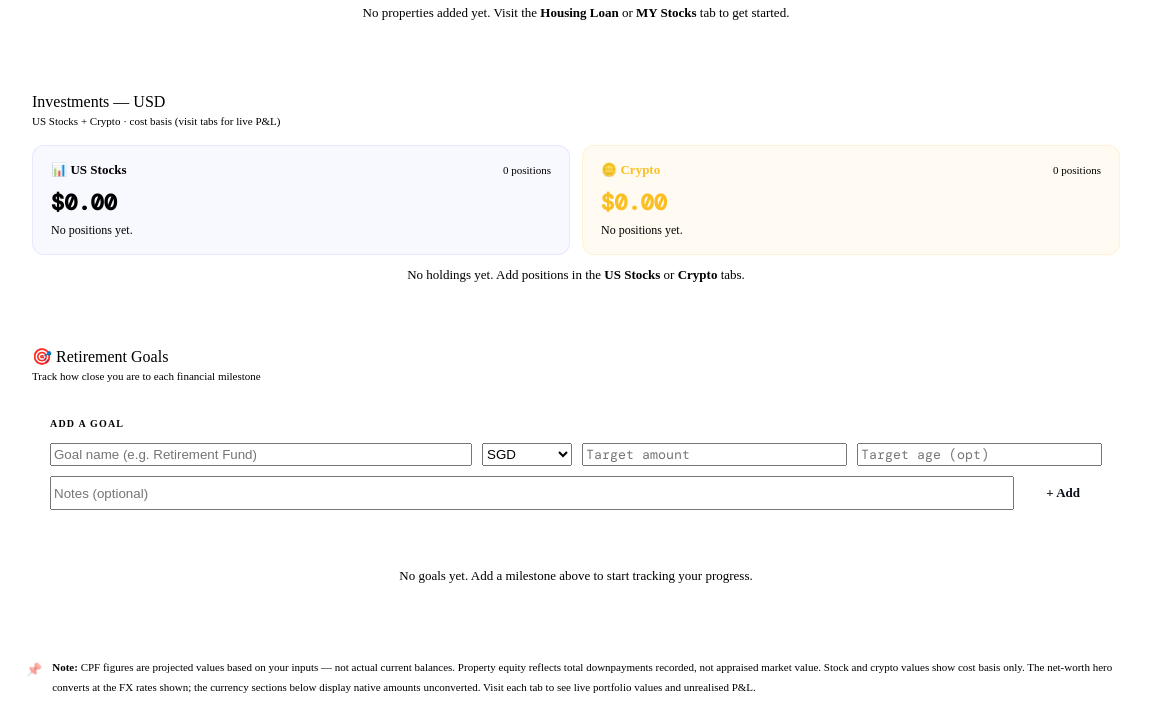
Test: SummaryTab › adds a goal and shows progress against the mapped currency
(page scrolled)
In the field with placeholder "Goal name (e.g. Retirement Fund)": (261,455) 50,443 -> 472,466, type "Retirement Fund"
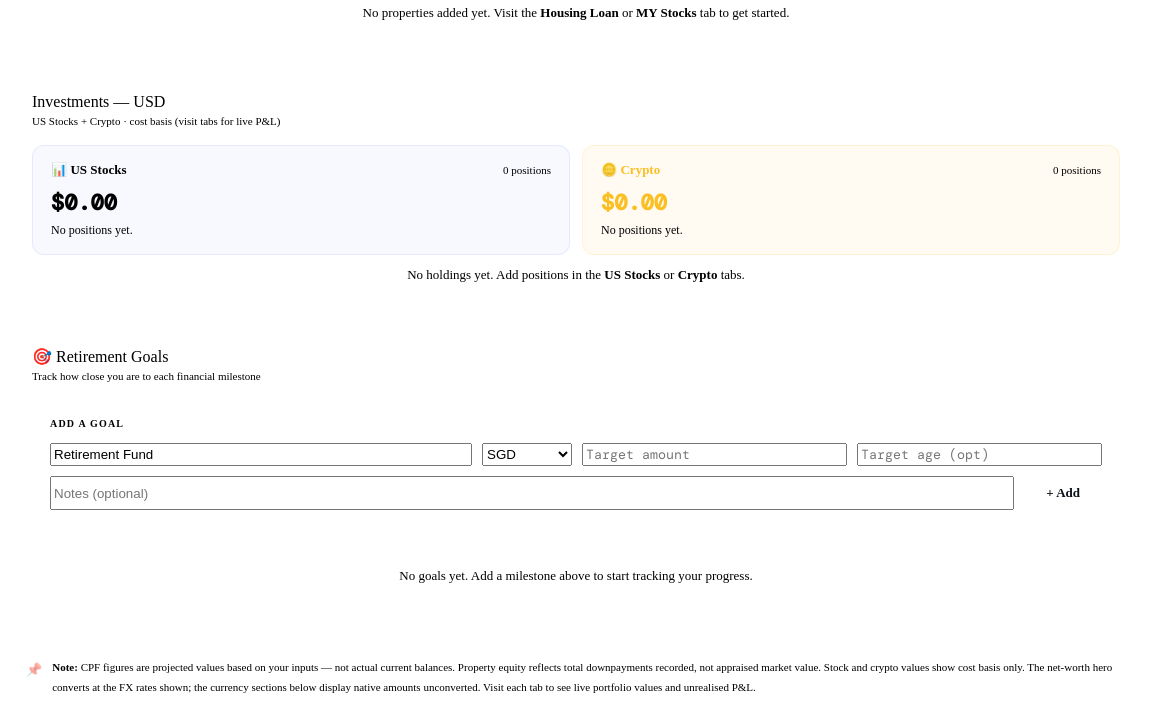
In the field with placeholder "Target amount": (714,455) 582,443 -> 847,466, type "440000"
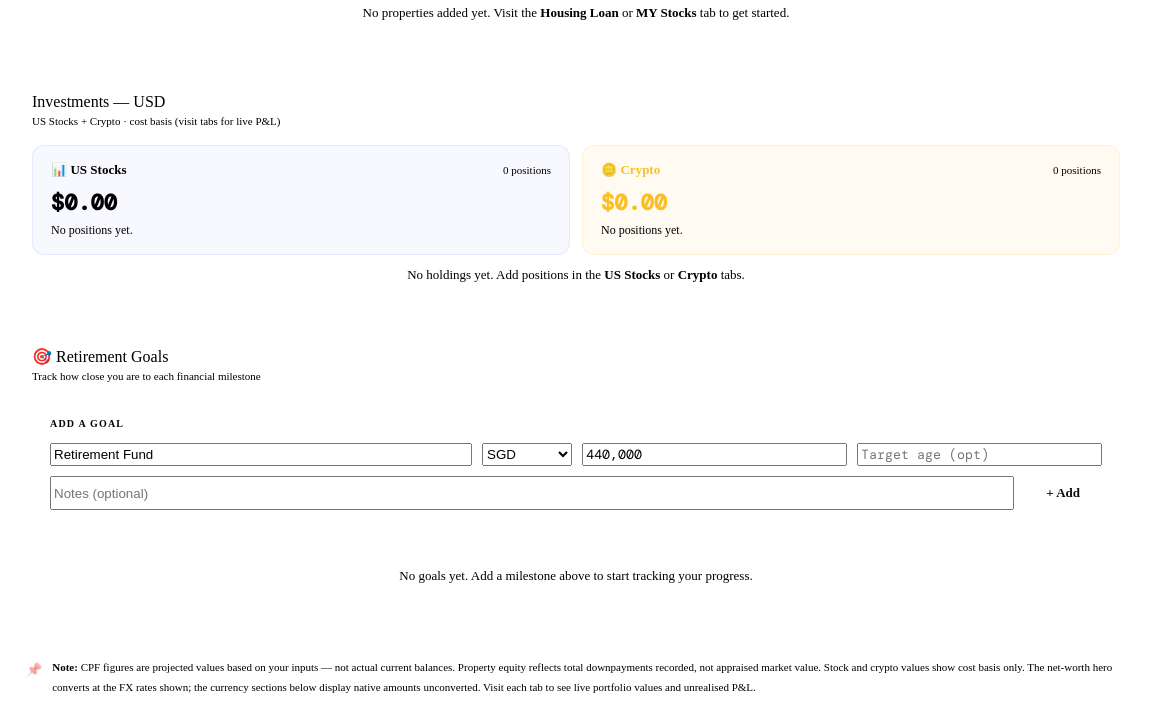
Click the button "+ Add": (1063,493) 1024,476 -> 1102,510
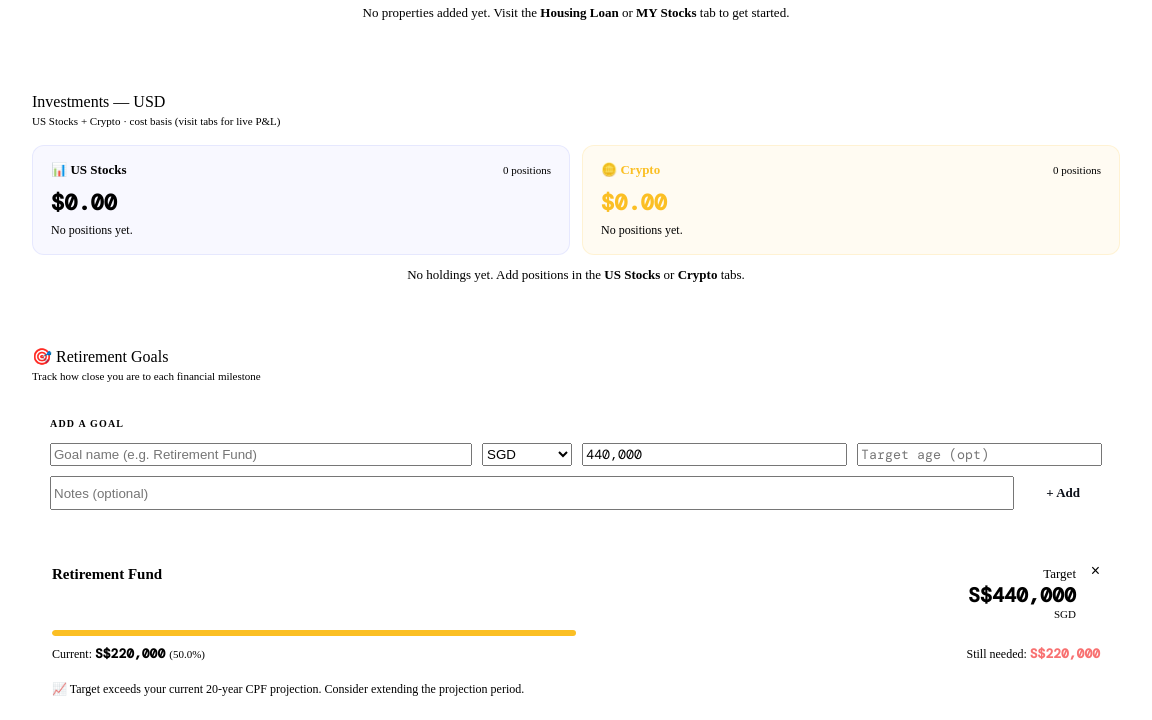
expect the text "Retirement Fund" is shown: met, box 52,566 -> 162,583
expect the text "(50.0%)" is shown: met, box 169,648 -> 205,660
expect the text "Still needed:" is shown: met, box 966,647 -> 1030,661
